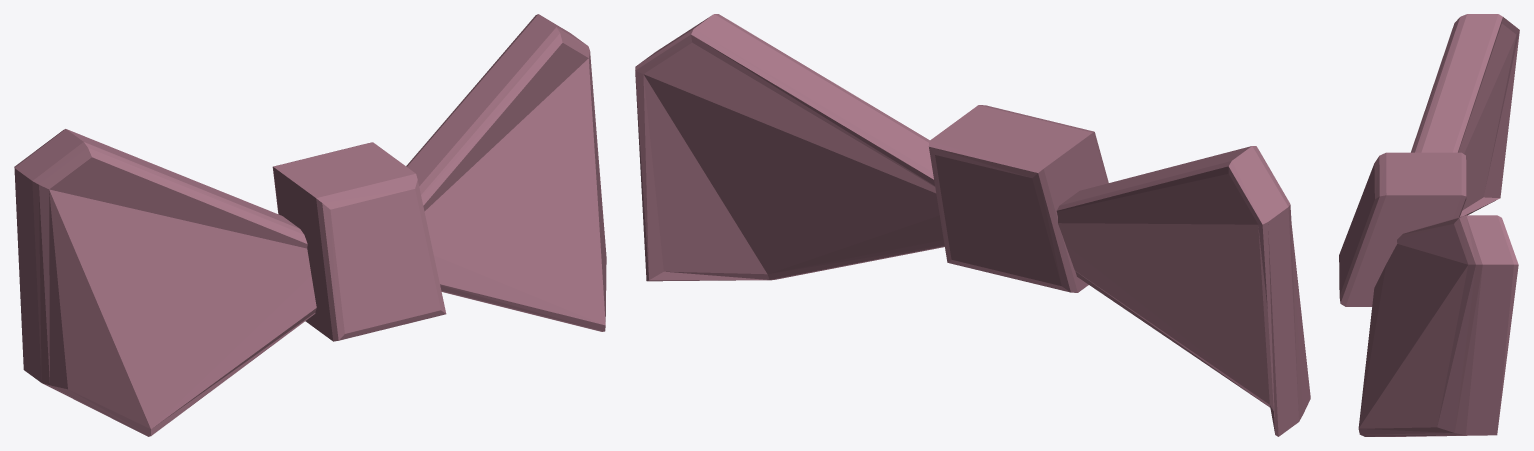
File: bow-tie-only.glb
The picture shows the model from 3 angles, left to right: view 1: azimuth 30°, elevation 25°; view 2: azimuth 150°, elevation 25°; view 3: azimuth 270°, elevation 25°; orthographic projection. The views are drawn at different scales.
Visible parts, largest first — view 1: Apparel_bow-tie_0; view 2: Apparel_bow-tie_0; view 3: Apparel_bow-tie_0.
Boxes of the visible parts, <box> form: Apparel_bow-tie_0: <box>14,14,606,436</box>; Apparel_bow-tie_0: <box>635,14,1310,436</box>; Apparel_bow-tie_0: <box>1339,14,1519,436</box>.
Bounding box in the file's own units: 0.484 × 0.2162 × 0.1562.
